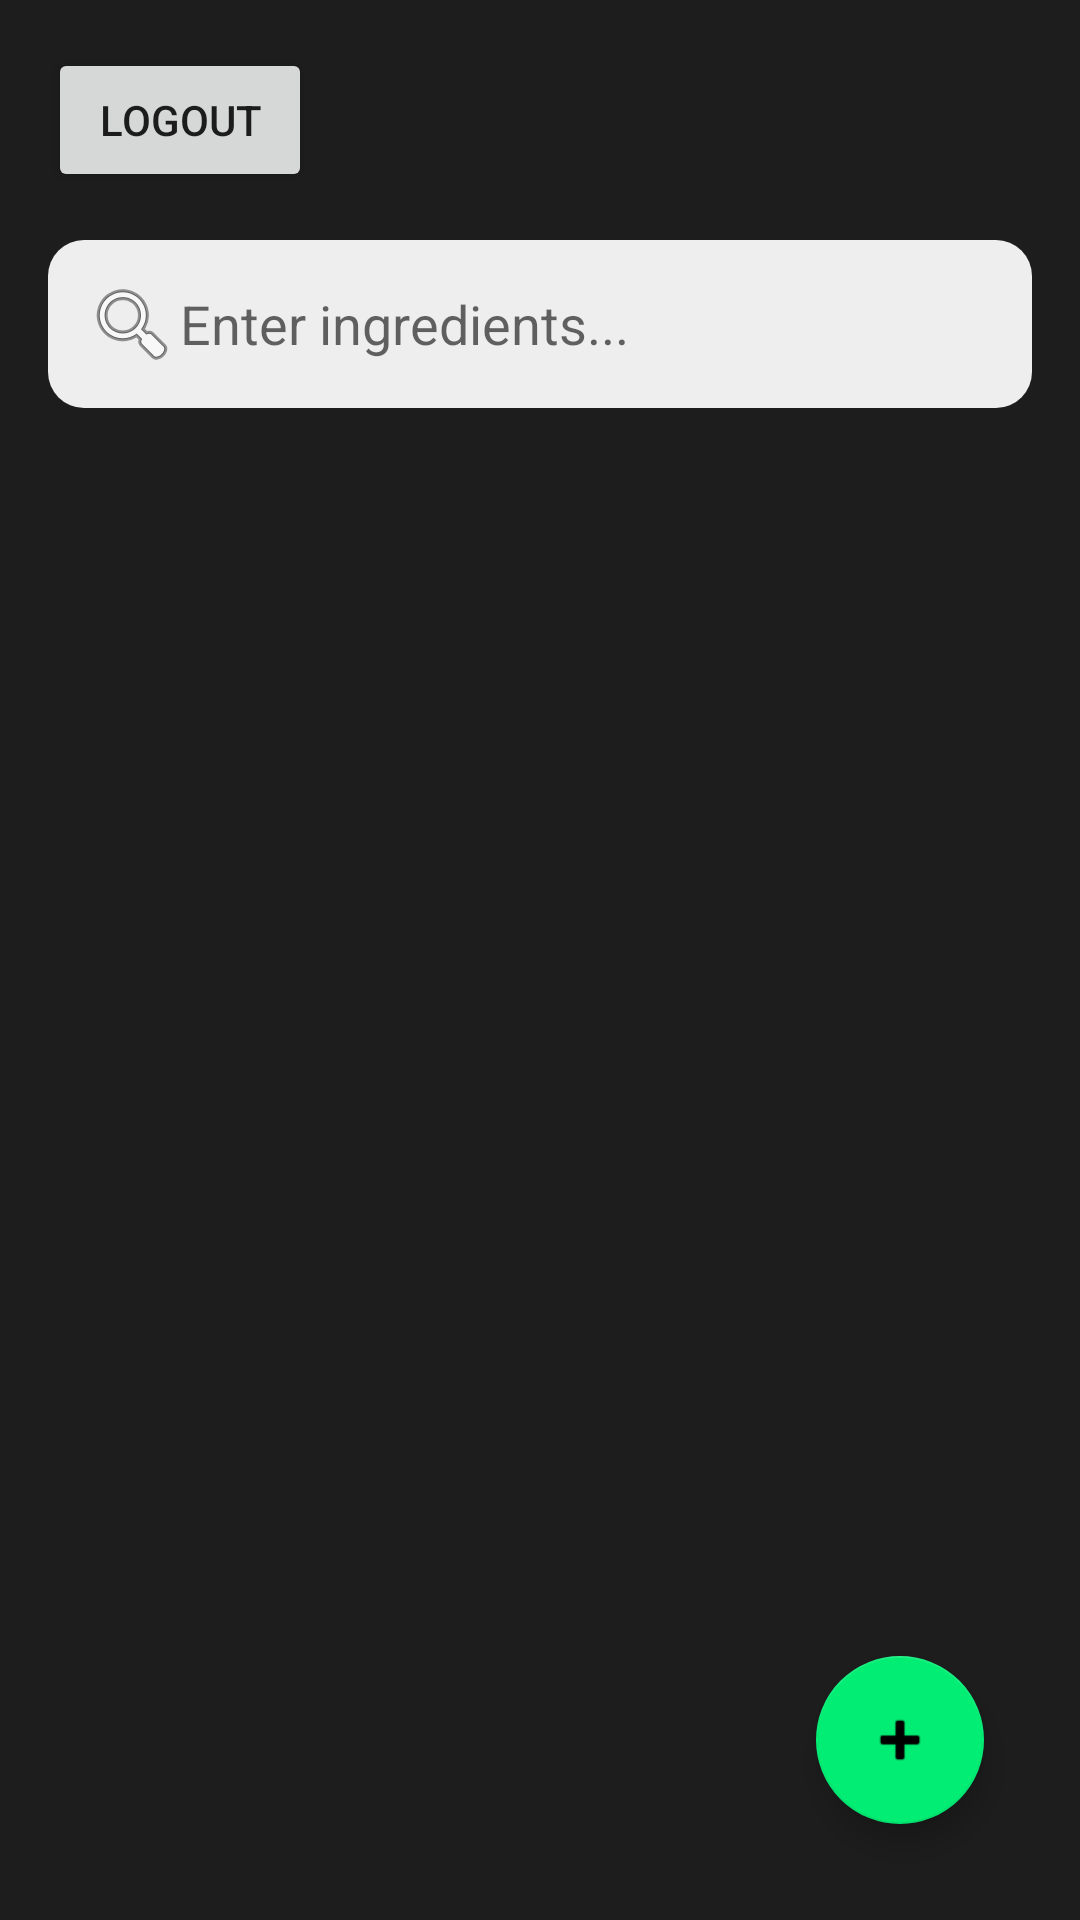

Screen size 1080×1920. Icon name, then its box in pixels as (x1, y1, x2, y2):
Add Recipe: (816, 1656, 984, 1824)
